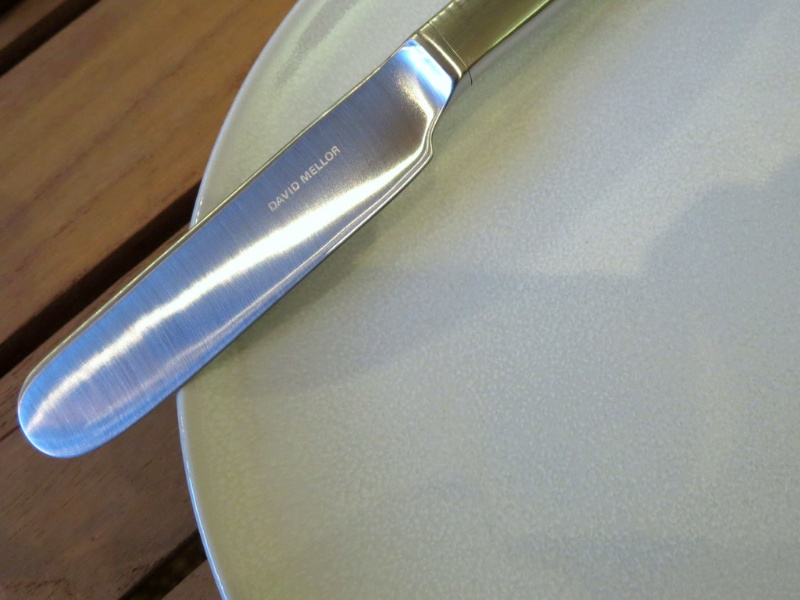knife: (18, 6, 467, 461)
